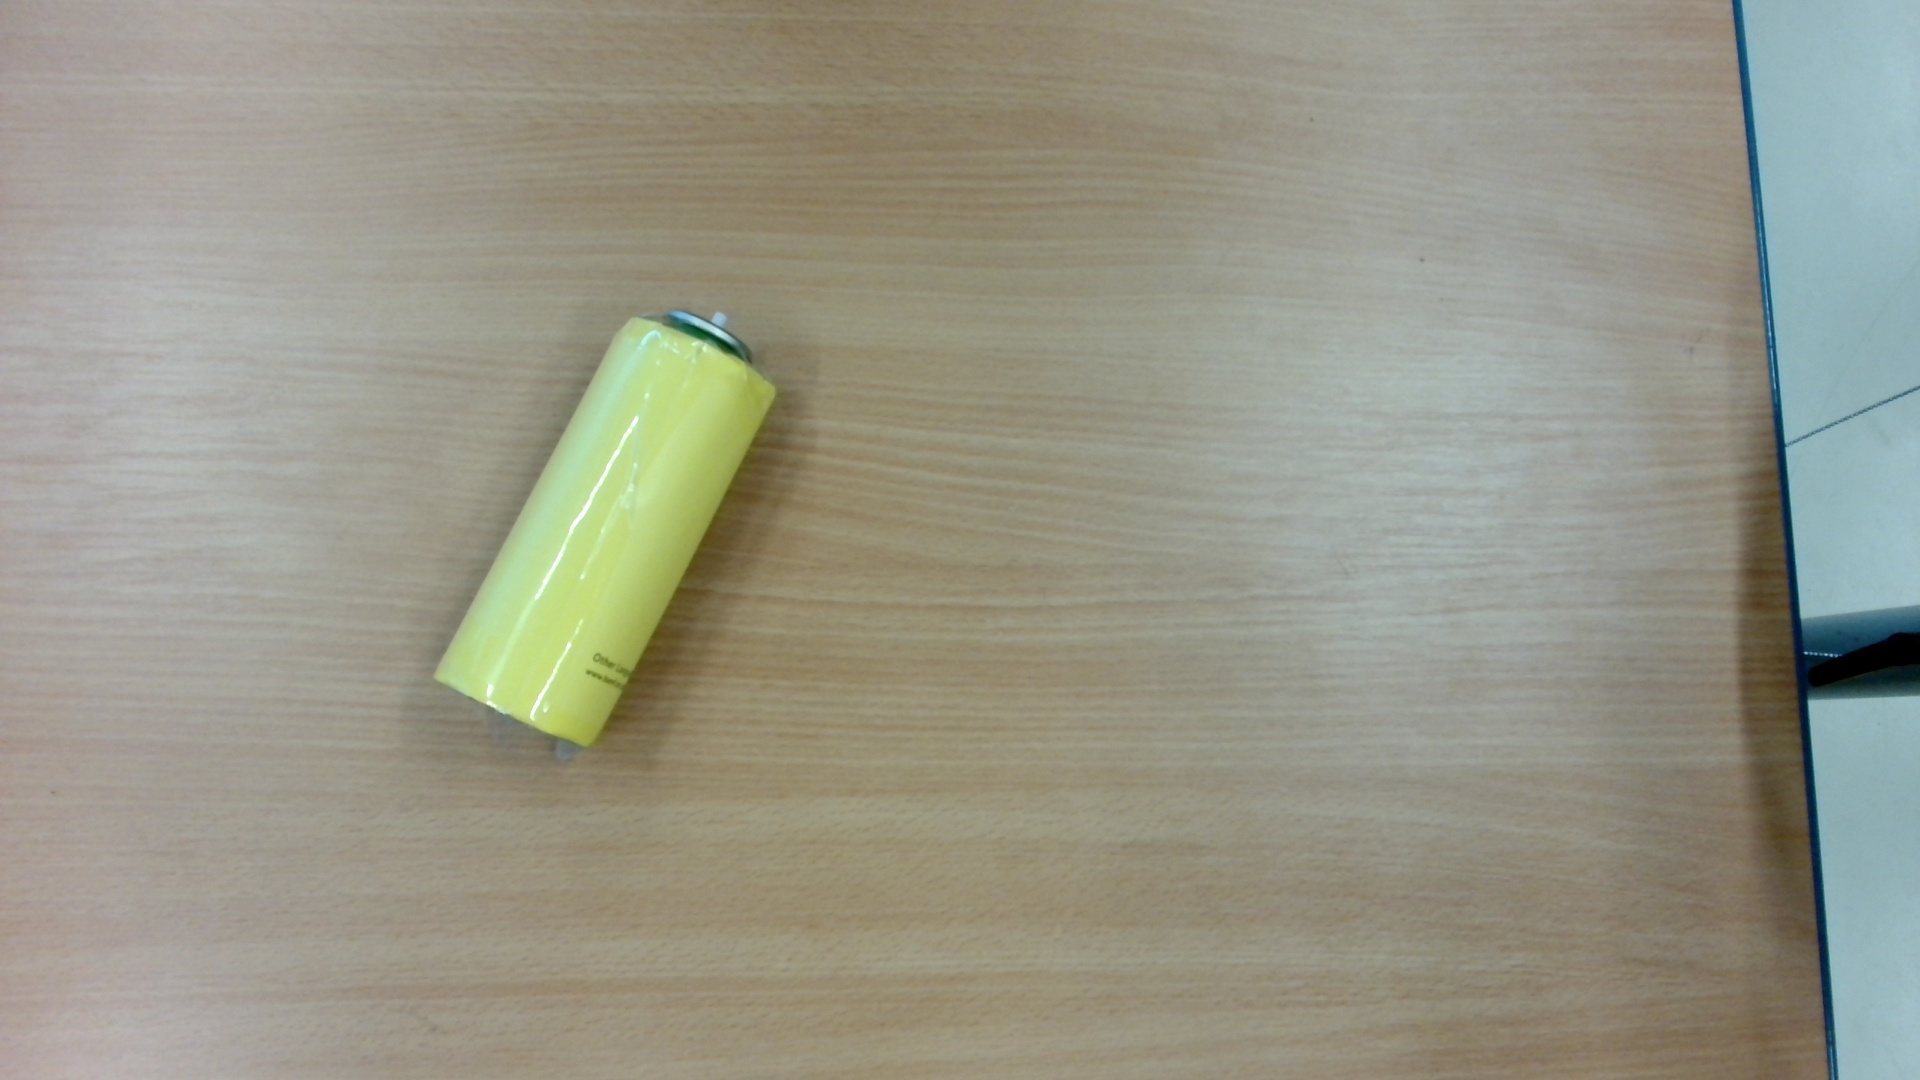Cylinder: (421, 295, 793, 767)
